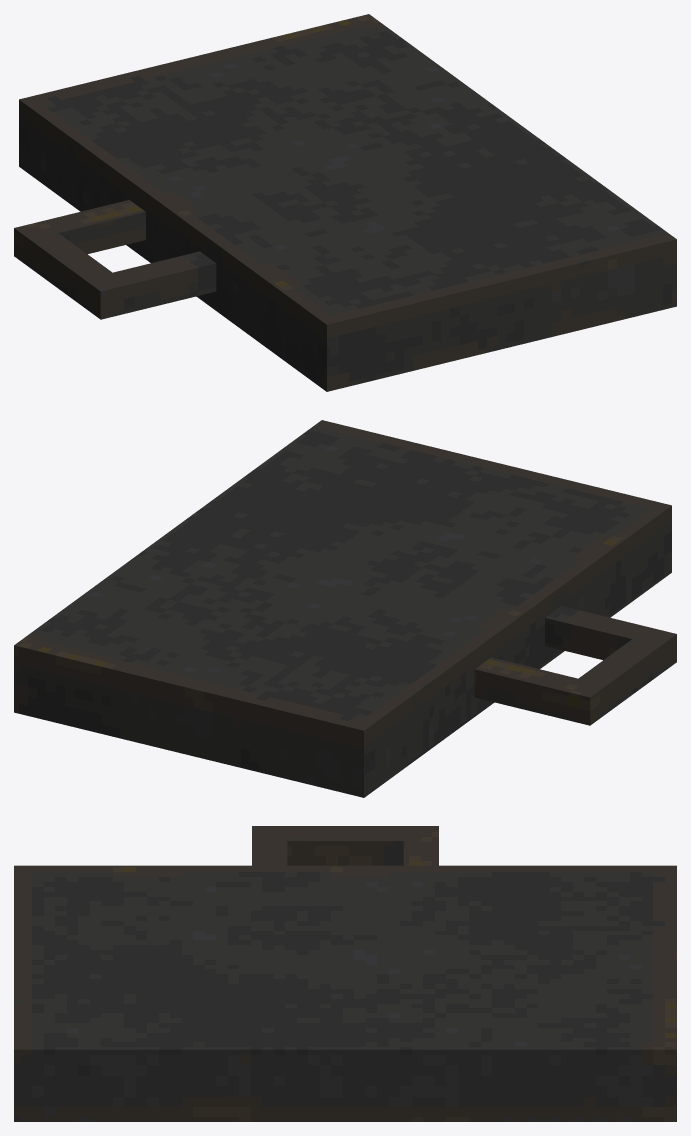
The model's file is clutter_3.glb.
3 views of the same model, one above another, from view 1: azimuth 30°, elevation 25°; view 2: azimuth 150°, elevation 25°; view 3: azimuth 270°, elevation 25° (orthographic). The views are drawn at different scales.
Parts seen in each view (by area): view 1: clutter-breifcase; view 2: clutter-breifcase; view 3: clutter-breifcase.
Boxes of the visible parts, left/top/right/bottom form: clutter-breifcase: left=14, top=14, right=676, bottom=391; clutter-breifcase: left=14, top=420, right=676, bottom=797; clutter-breifcase: left=14, top=826, right=676, bottom=1121.
Size of the model in its own units: 1.41 by 0.1942 by 1.61.
Materials: 1 (1 with a texture image).
